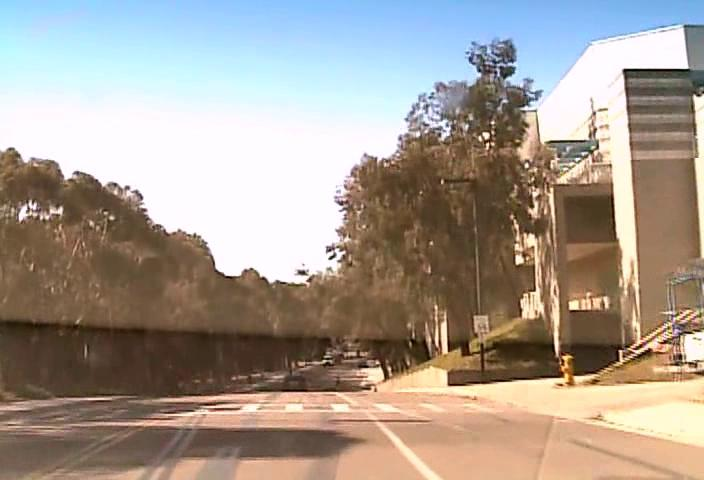speedLimitUrdbl: (472, 314, 489, 334)
